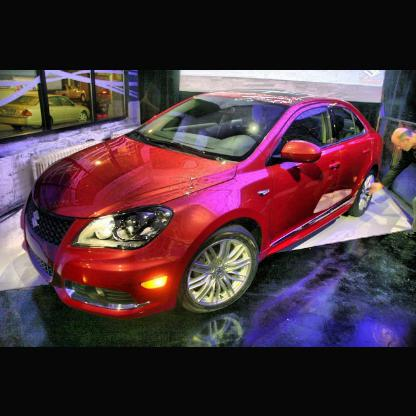Suzuki Kizashi Sedan 2012: (20, 91, 387, 320)
